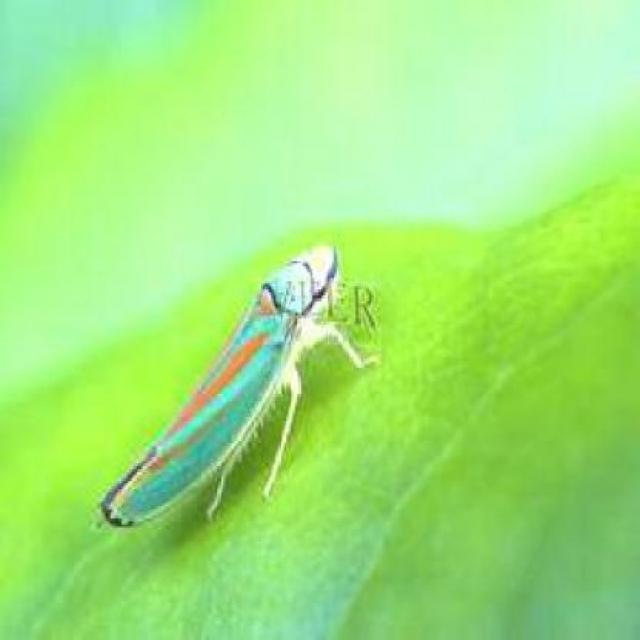green-leafhopper: (98, 236, 360, 530)
